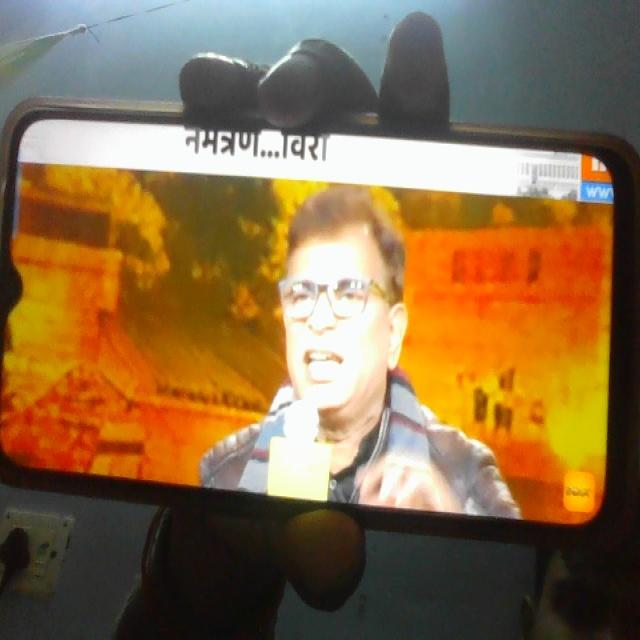fake: (268, 180, 404, 437)
